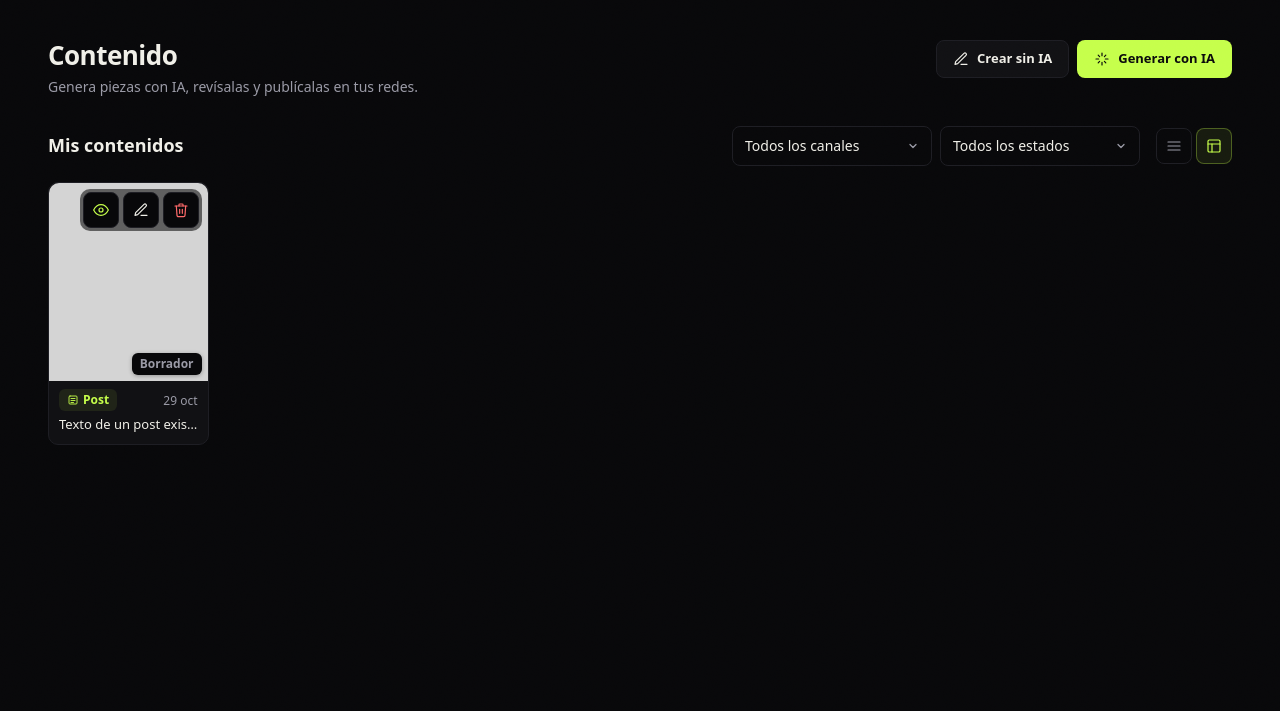
Scenario: Mis contenidos — lista › borrar pide confirmación con el diálogo de la app, no con confirm()
The image size is (1280, 711).
Click the button named "Eliminar: Texto de un post existente": (181, 210) [163, 192, 199, 228]
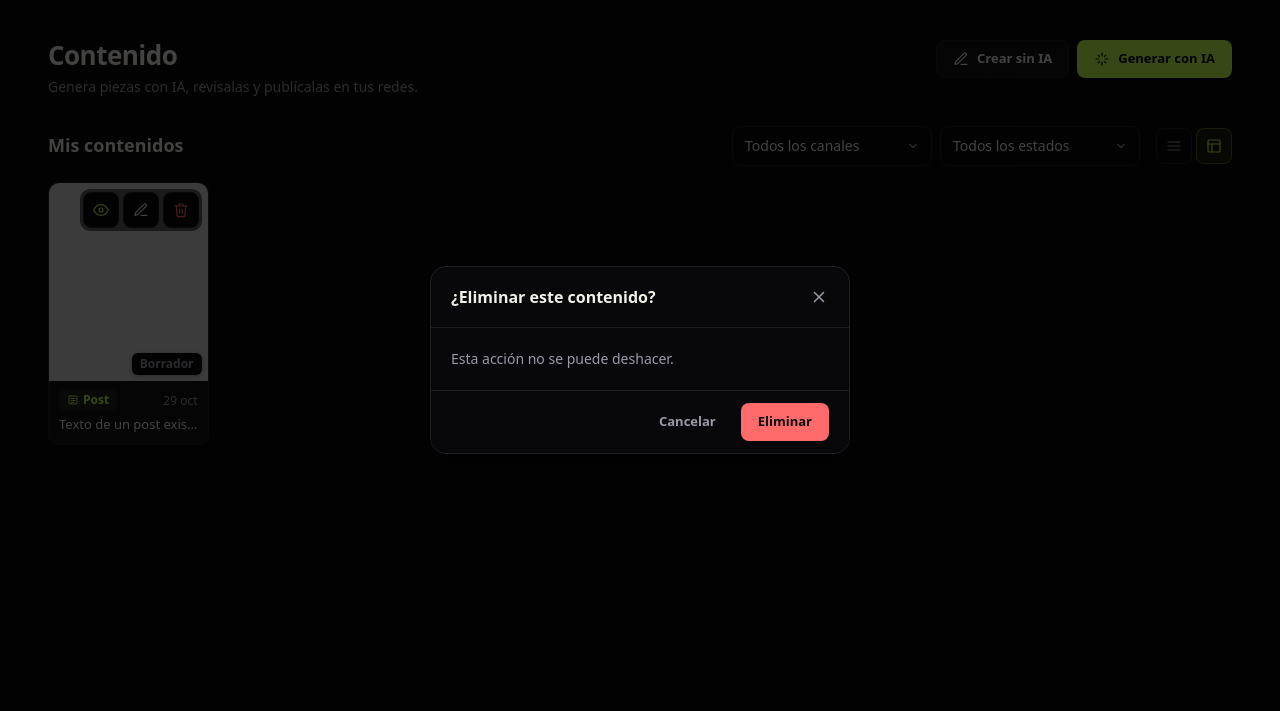
Click the button "Eliminar": (785, 422) [741, 403, 829, 441]
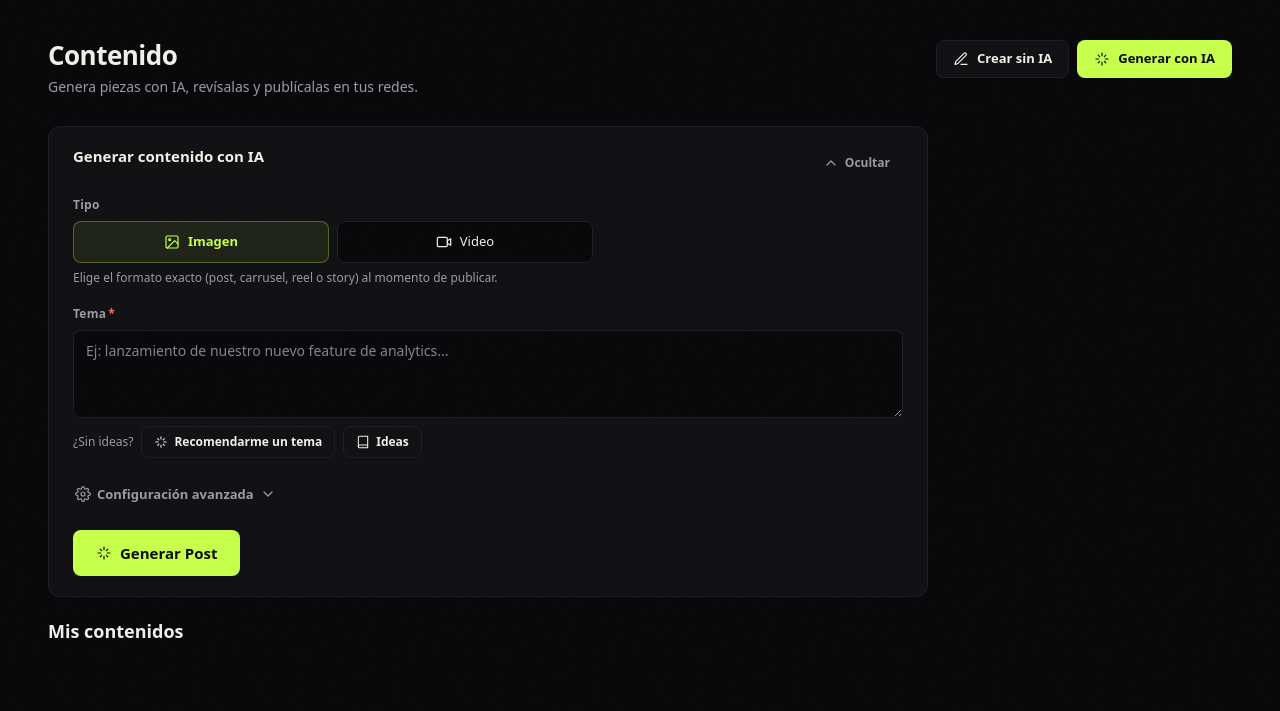
Check: the element with test id "content-card" is gone
